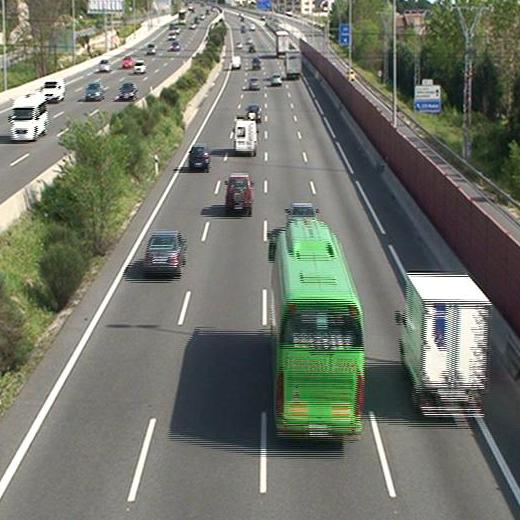bus: (271, 221, 365, 440)
car: (144, 232, 184, 276), (226, 173, 255, 213), (284, 203, 320, 226), (189, 145, 210, 170), (247, 105, 260, 120), (249, 77, 261, 90), (271, 72, 282, 84)
small-truck: (403, 272, 492, 415), (284, 50, 302, 79)
truck: (275, 30, 289, 55)
van: (232, 120, 257, 156), (231, 55, 241, 69), (252, 57, 261, 71)
